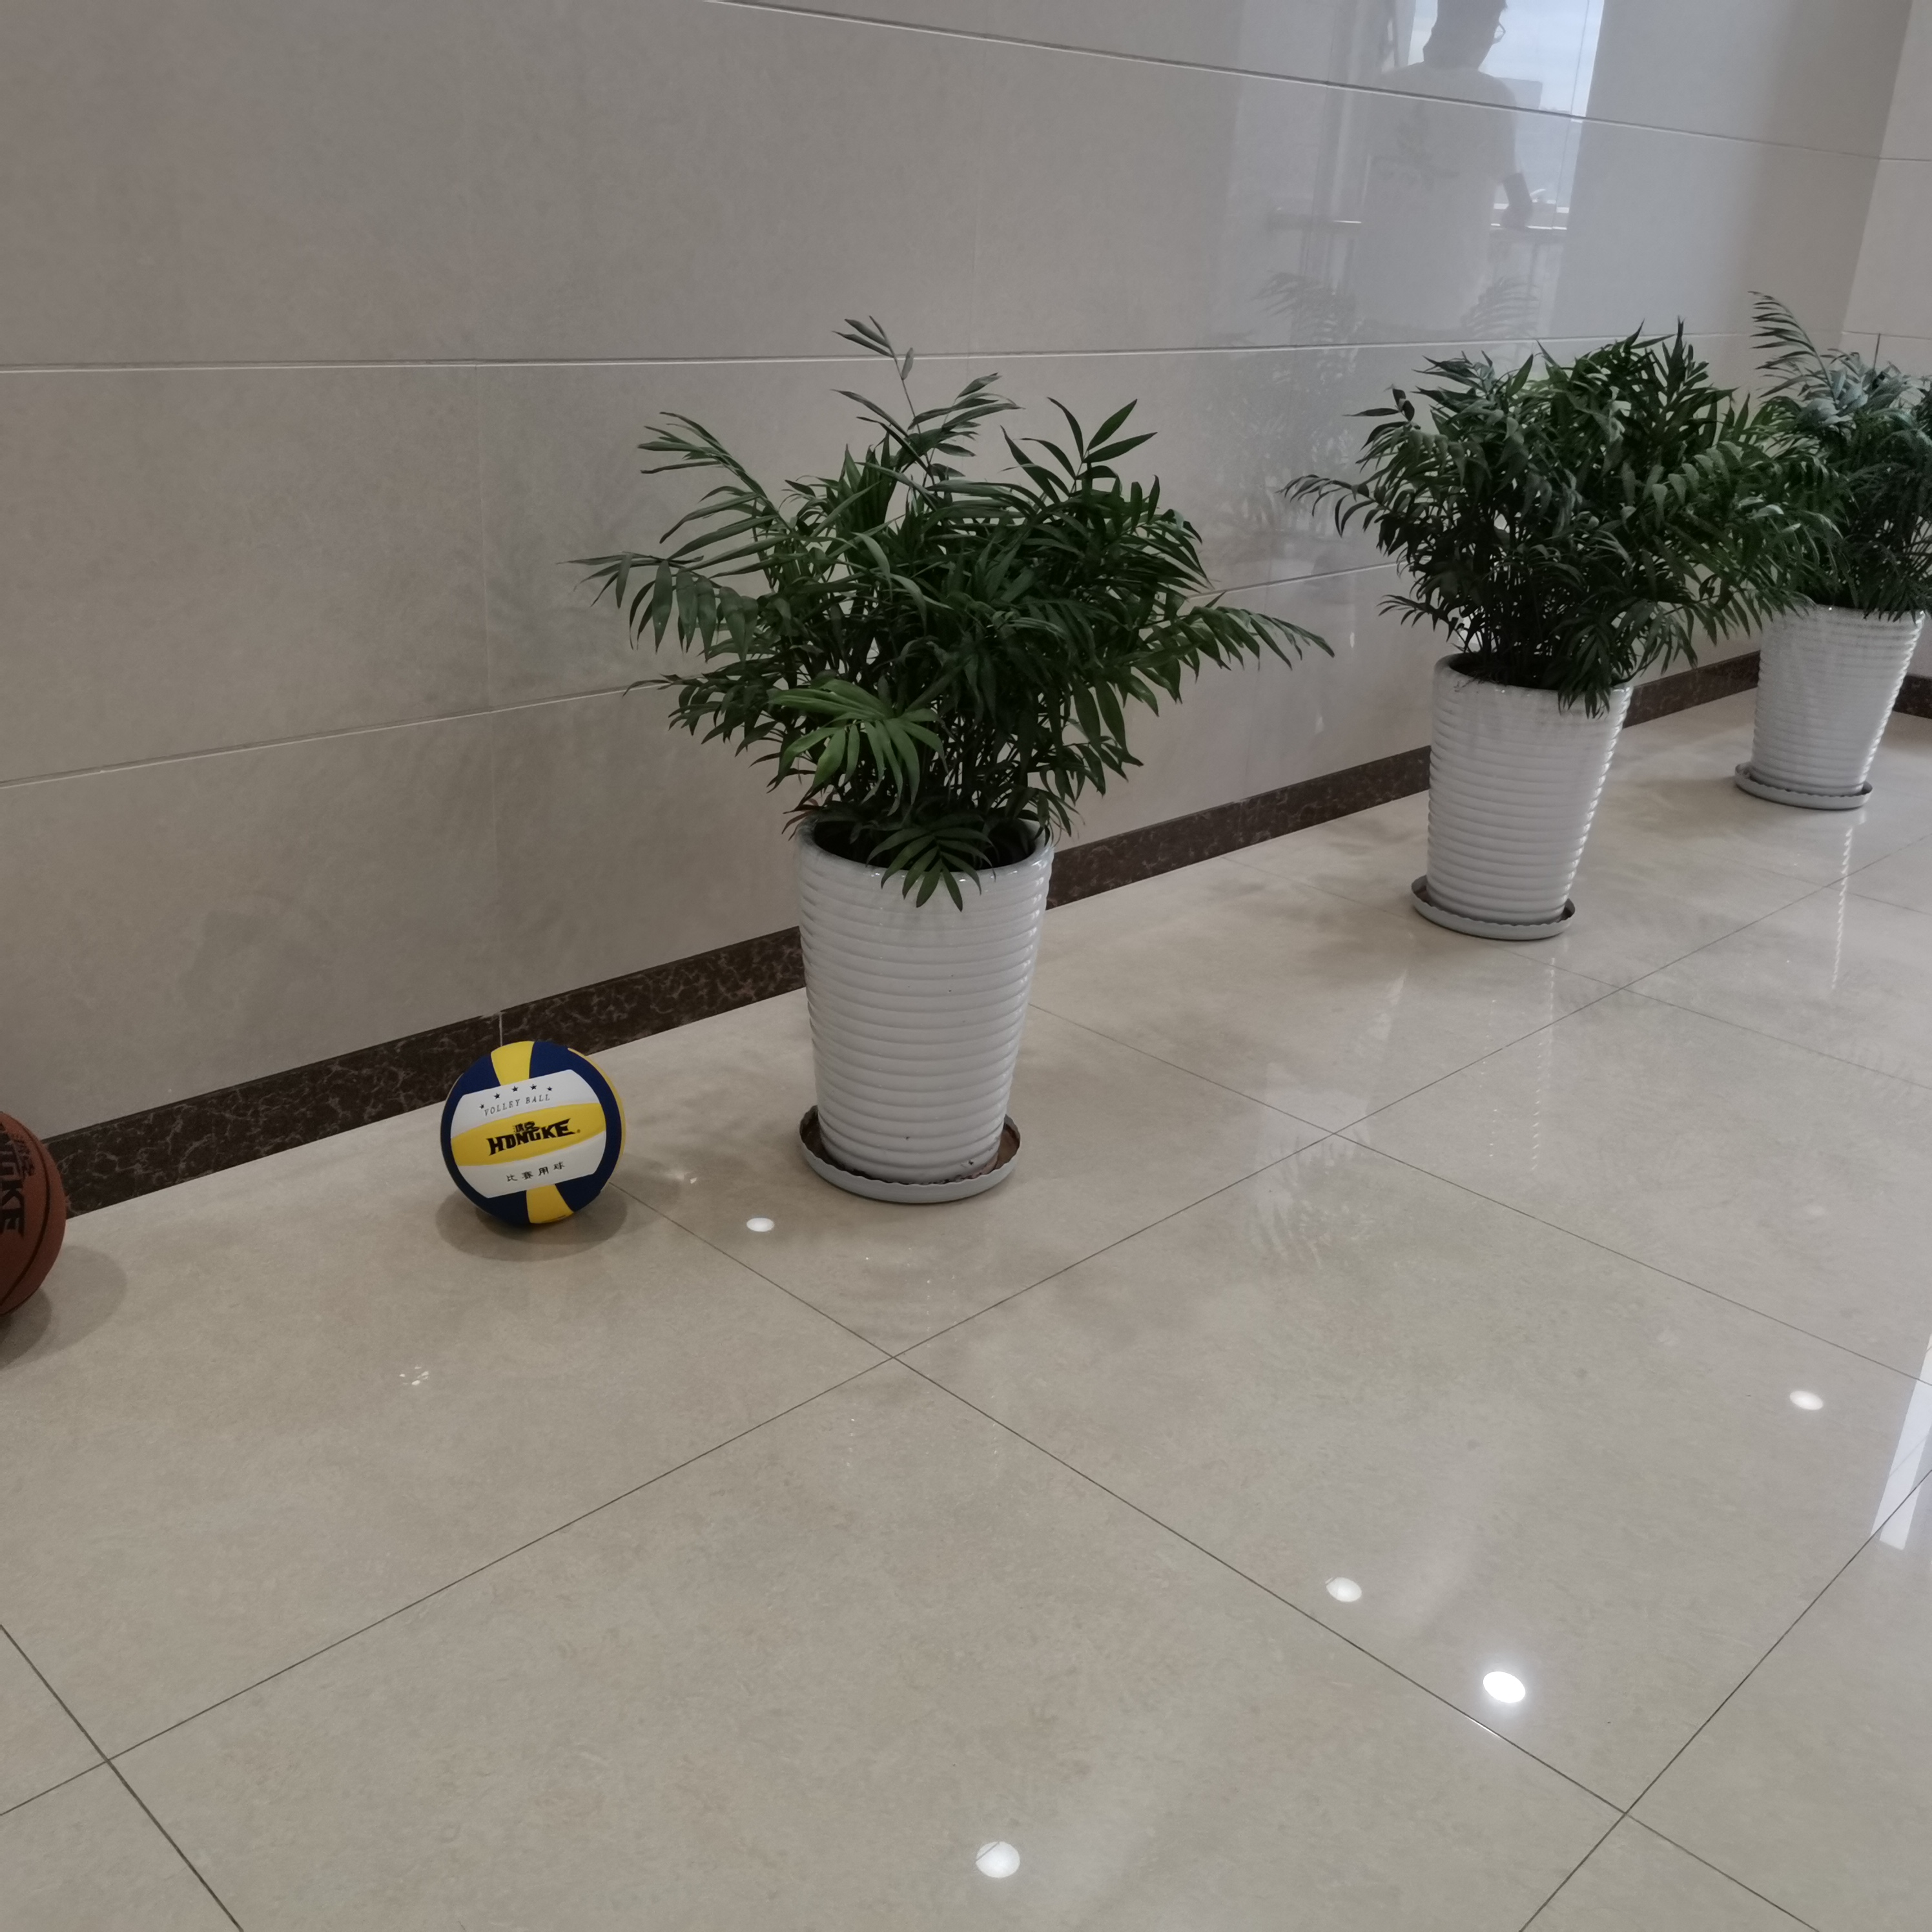volleyball: (442, 1039, 626, 1233)
